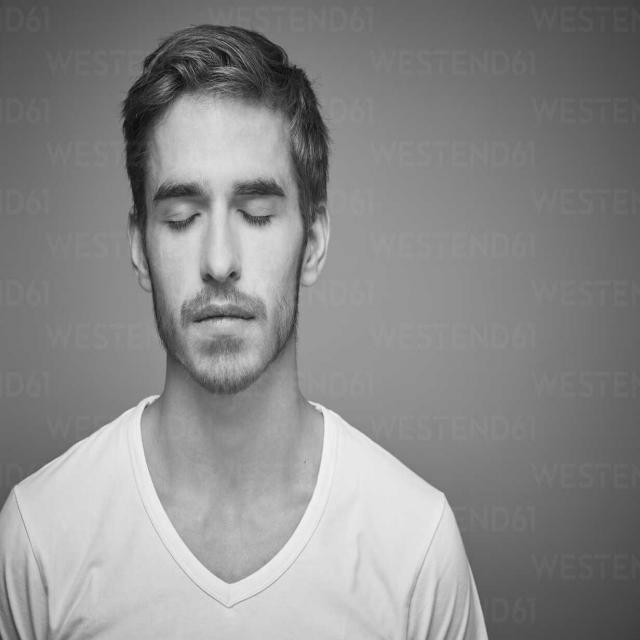real: (125, 63, 332, 396), (148, 180, 300, 234)
